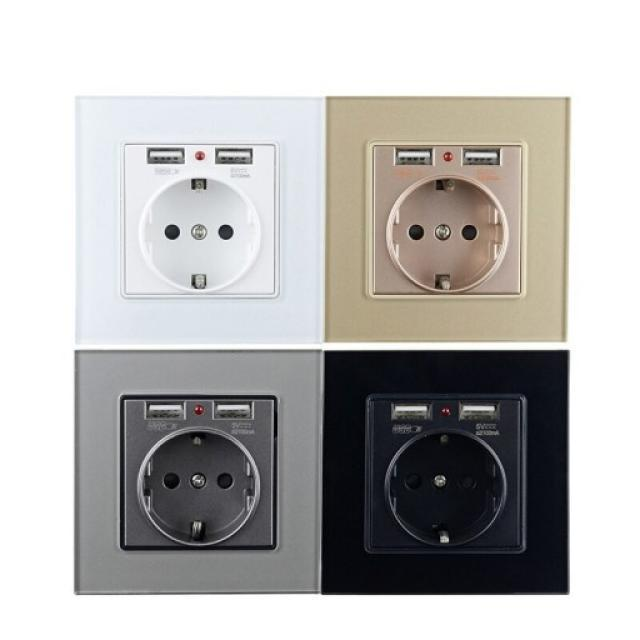typeb: (48, 57, 328, 344), (30, 351, 316, 616), (323, 346, 613, 590), (325, 70, 575, 348)
